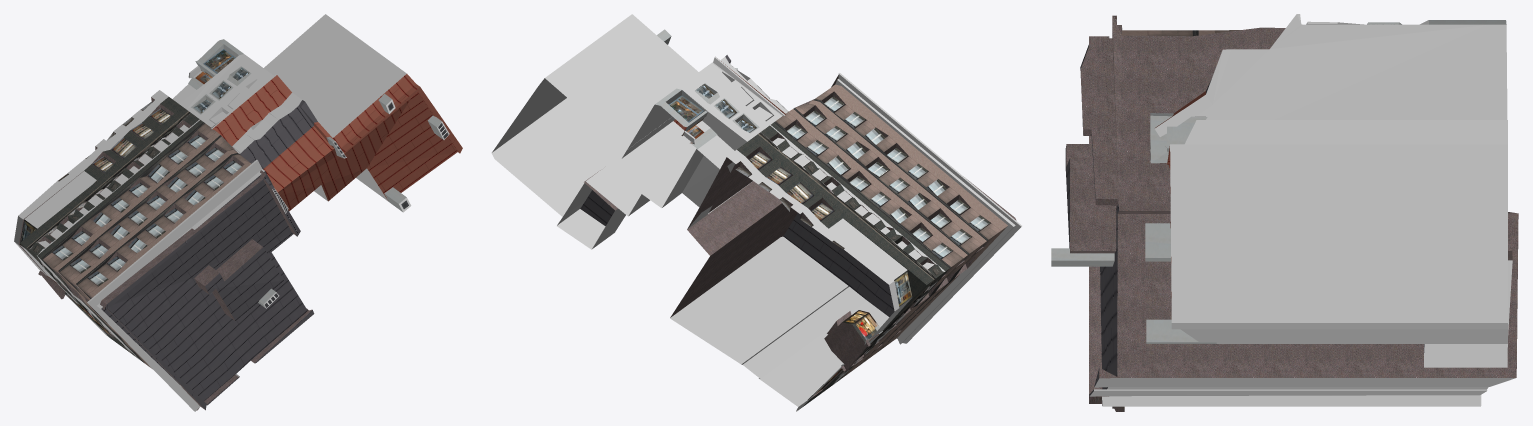
The model's file is Myyrivahe_24-origo.obj.
The picture shows the model from 3 angles, left to right: view 1: azimuth 30°, elevation 25°; view 2: azimuth 150°, elevation 25°; view 3: azimuth 270°, elevation 25°; orthographic projection. The views are drawn at different scales.
Parts seen in each view (by area): view 1: Myyrivahe_24; view 2: Myyrivahe_24; view 3: Myyrivahe_24.
Boxes of the visible parts, left/top/right/bottom form: Myyrivahe_24: left=14, top=14, right=462, bottom=411; Myyrivahe_24: left=491, top=14, right=1021, bottom=411; Myyrivahe_24: left=1051, top=14, right=1518, bottom=411.
Bounding box in the file's own units: 42.38 × 28 × 22.96.
